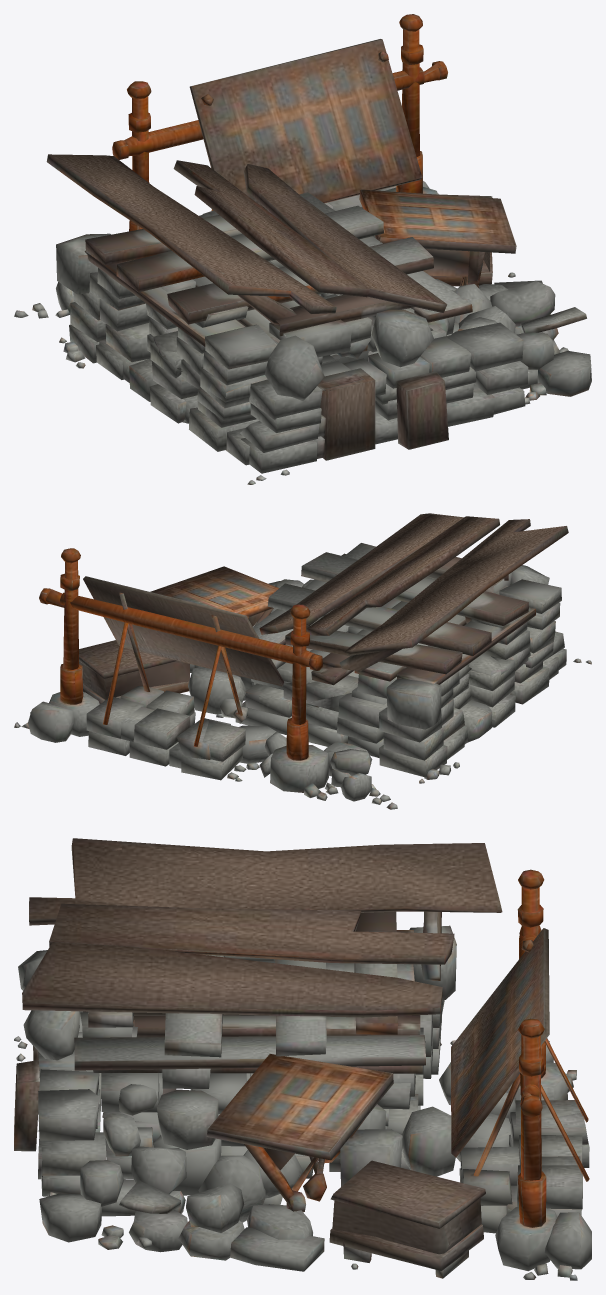
File: barricade.glb
The picture shows the model from 3 angles, top to bottom: view 1: azimuth 30°, elevation 25°; view 2: azimuth 150°, elevation 25°; view 3: azimuth 270°, elevation 25°; orthographic projection. The views are drawn at different scales.
Parts seen in each view (by area): view 1: barricade; view 2: barricade; view 3: barricade.
Part boxes in pixels (x1=…): barricade: x1=14, y1=14, x2=591, y2=484; barricade: x1=14, y1=513, x2=591, y2=809; barricade: x1=14, y1=838, x2=591, y2=1280.
Bounding box in the file's own units: 4 × 1.9 × 4.
Materials: 1 (1 with a texture image).
